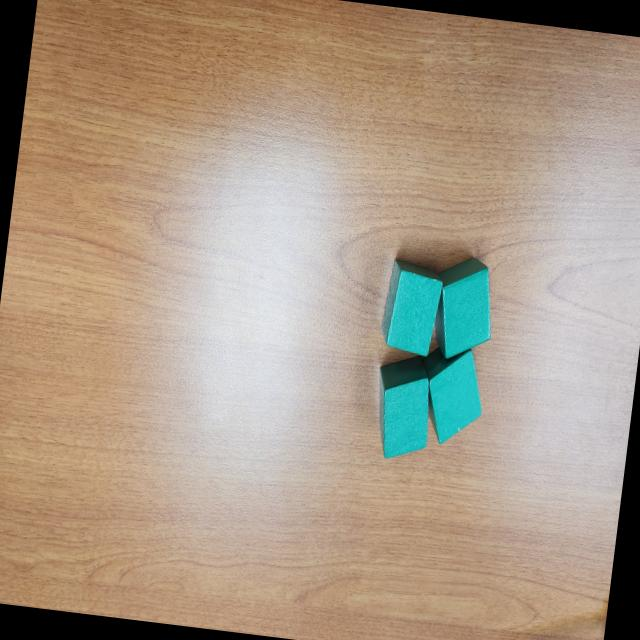green: (411, 342, 489, 450), (427, 252, 498, 362), (368, 352, 438, 463), (378, 256, 447, 360)
